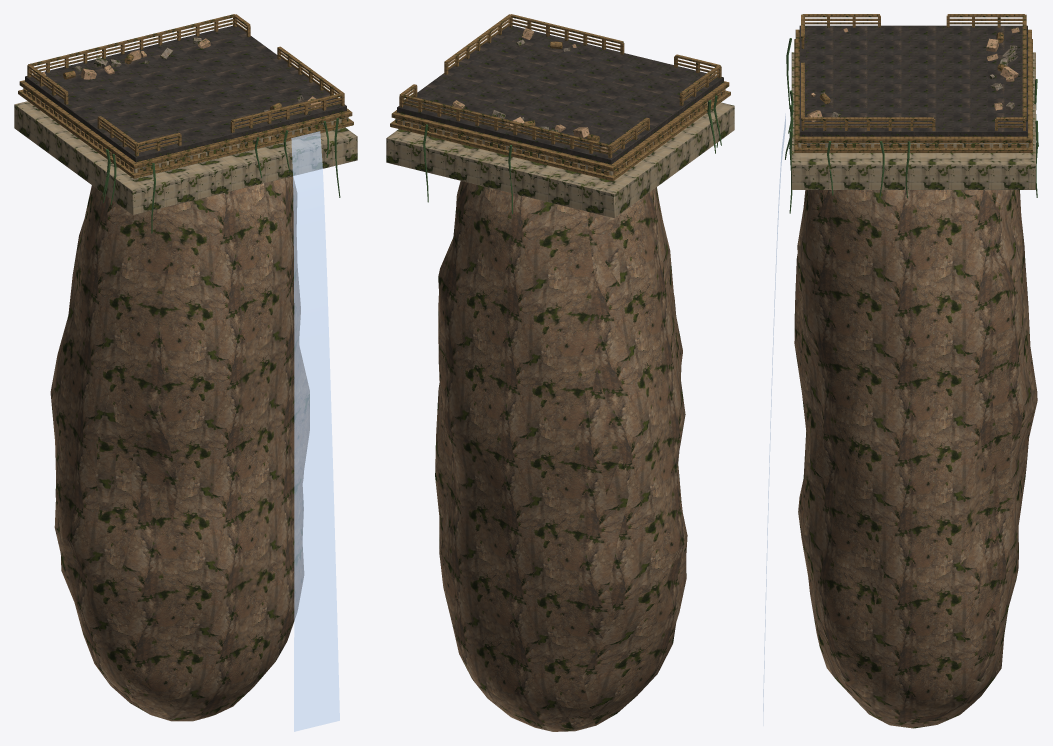
File: Room_Gate.fbx
The picture shows the model from 3 angles, left to right: view 1: azimuth 30°, elevation 25°; view 2: azimuth 150°, elevation 25°; view 3: azimuth 270°, elevation 25°; orthographic projection. The views are drawn at different scales.
Parts seen in each view (by area): view 1: Gate_Rock_LOD0, Gate_Structure_LOD0, Waterfall_Gate; view 2: Gate_Rock_LOD0, Gate_Structure_LOD0; view 3: Gate_Rock_LOD0, Gate_Structure_LOD0, Waterfall_Gate.
Boxes of the visible parts, x1,y1,x2,y2 form: Gate_Rock_LOD0: [50, 176, 309, 721]; Gate_Structure_LOD0: [14, 14, 357, 233]; Waterfall_Gate: [291, 131, 339, 731]; Gate_Rock_LOD0: [435, 181, 687, 731]; Gate_Structure_LOD0: [386, 14, 734, 217]; Gate_Rock_LOD0: [794, 190, 1037, 728]; Gate_Structure_LOD0: [785, 14, 1038, 213]; Waterfall_Gate: [763, 114, 785, 725].
Size of what is drawn, in the model's own units: 24.6 by 63.18 by 24.16.
